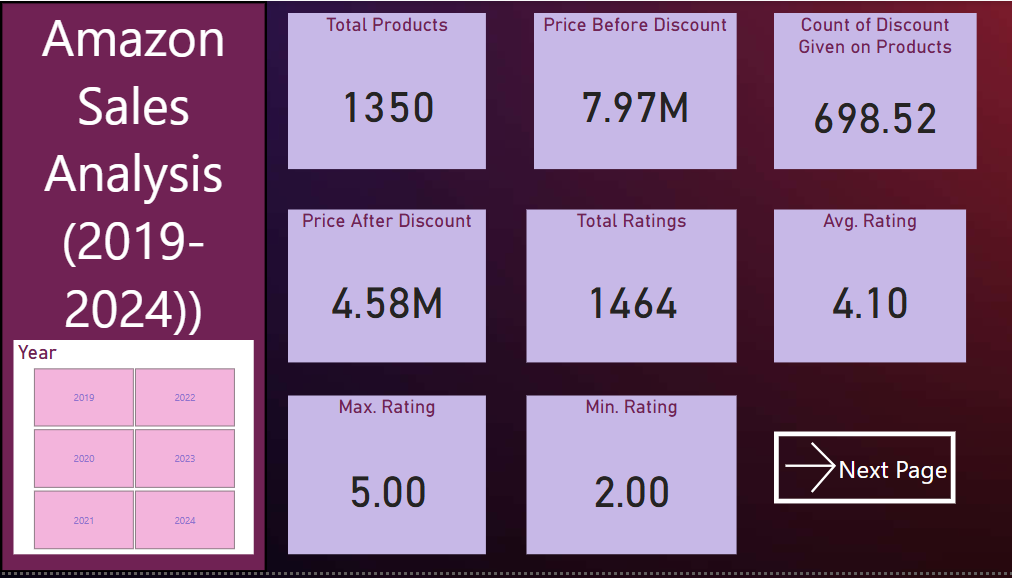

The dashboard page shown, as its layout file describes it:
{"tool":"powerbi","page":{"name":"Page 1","canvas":[1280,720],"ordinal":0},"visuals":[{"type":"shape","box":[0,0,336.4,720],"z":0},{"type":"card","title":"Price Before Discount","fields":{"Values":["Sum(sales_dataset.actual_price)"]},"box":[672.8,15.1,255.1,196.5],"z":1000},{"type":"card","title":"Price After Discount","fields":{"Values":["Sum(sales_dataset.discounted_price)"]},"box":[362.8,262.7,249.5,192.8],"z":2000},{"type":"slicer","title":"Year","fields":{"Values":["sales_dataset.year"]},"box":[17,427.1,302.4,270.2],"z":3000},{"type":"card","title":"Total Products","fields":{"Values":["Count(sales_dataset.product_id)"]},"box":[362.8,15.1,249.5,196.5],"z":4000},{"type":"card","title":"Total Ratings","fields":{"Values":["CountNonNull(sales_dataset.rating)"]},"box":[663.3,262.7,264.6,192.8],"z":5000},{"type":"card","title":"Count of Discount Given on Products","fields":{"Values":["Sum(sales_dataset.discount_percentage)"]},"box":[975.1,15.1,255.1,196.5],"z":6000},{"type":"card","title":"Avg. Rating","fields":{"Values":["Avg(sales_dataset.rating)"]},"box":[975.1,262.7,241.9,192.8],"z":7000},{"type":"card","title":"Min. Rating","fields":{"Values":["Min(sales_dataset.rating)"]},"box":[663.3,497,264.6,200.3],"z":8000},{"type":"card","title":"Max. Rating","fields":{"Values":["Max(sales_dataset.rating)"]},"box":[362.8,497,249.5,200.3],"z":9000},{"type":"actionButton","box":[975.1,542.4,228.7,90.7],"z":9001}]}

Visuals, with their boxes in screenshot pixels (x1, y1, x2, y2), scaled from the page's 1280x720 canvas onto the 1012x578 screenshot:
shape: [0, 0, 266, 577]
"Price Before Discount" card: [532, 12, 734, 170]
"Price After Discount" card: [287, 211, 484, 366]
"Year" slicer: [13, 343, 253, 560]
"Total Products" card: [287, 12, 484, 170]
"Total Ratings" card: [524, 211, 734, 366]
"Count of Discount Given on Products" card: [771, 12, 973, 170]
"Avg. Rating" card: [771, 211, 962, 366]
"Min. Rating" card: [524, 399, 734, 560]
"Max. Rating" card: [287, 399, 484, 560]
actionButton: [771, 435, 952, 508]
